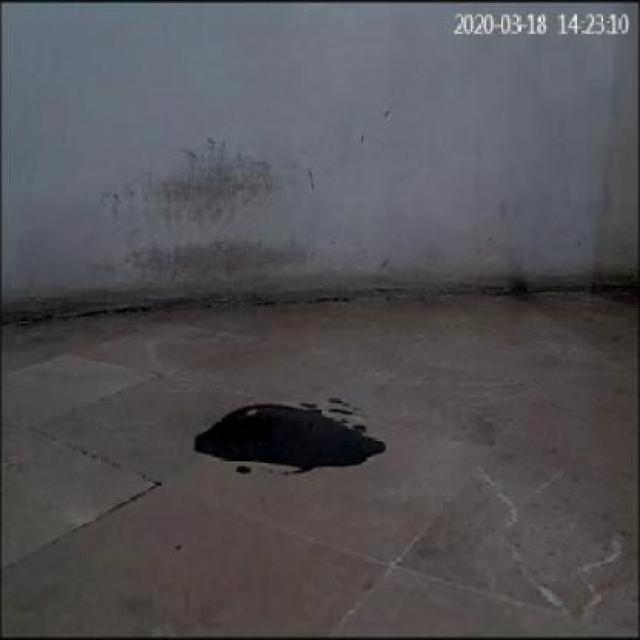spillage: (188, 398, 395, 480)
